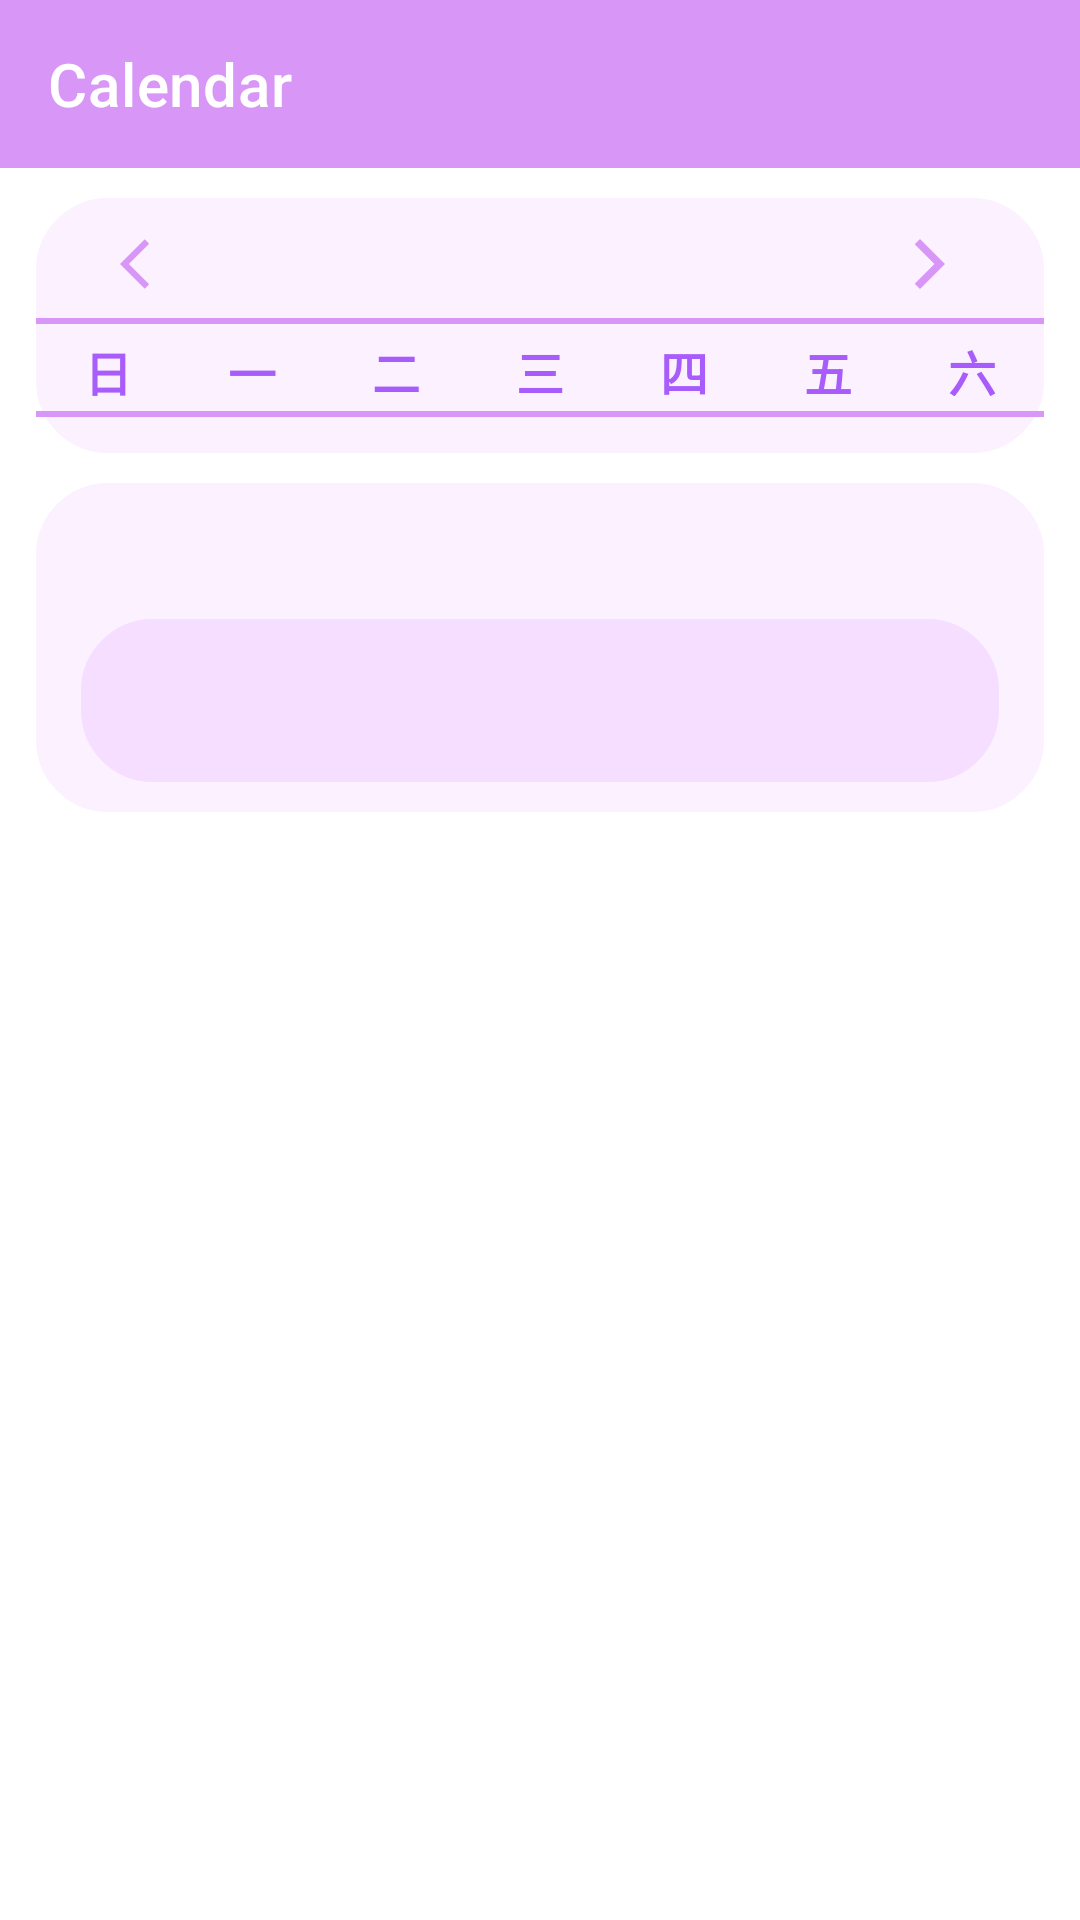

Icons on this 1080*1920 Android screen, each with the point to tap as point (x, y):
arrow back: point (134, 264)
arrow forward: point (930, 264)
